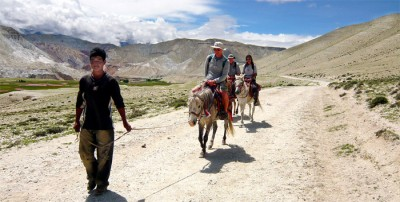human: (68, 41, 136, 195), (197, 38, 232, 103), (238, 52, 260, 105)
